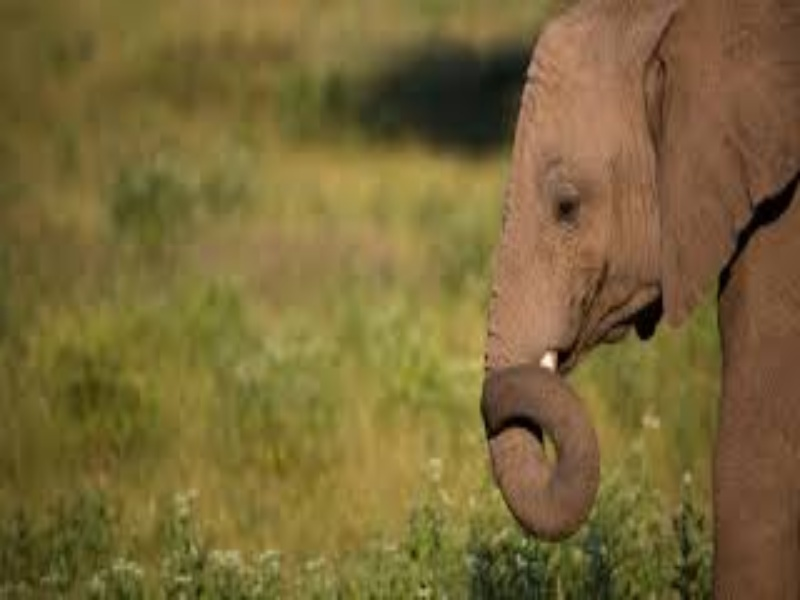elephant: (469, 1, 800, 595)
